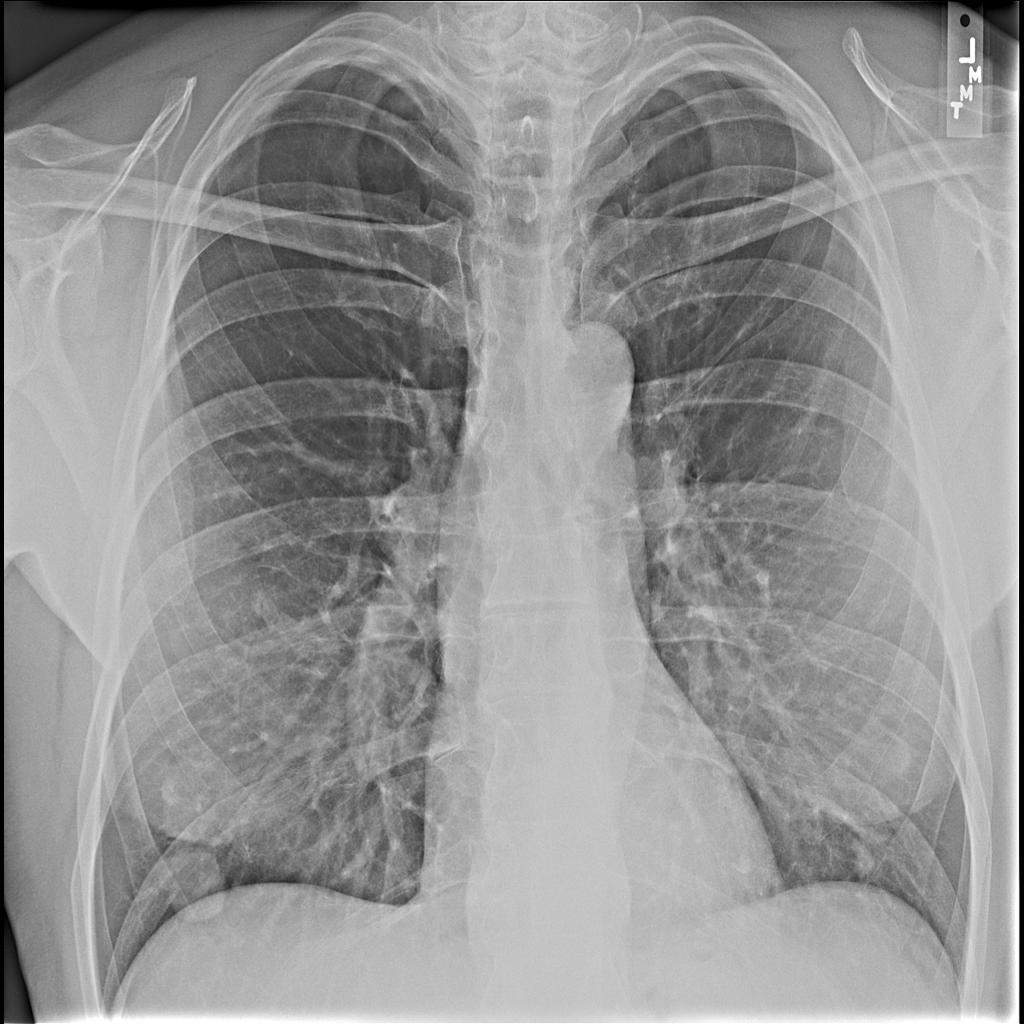Nodule: (146, 834, 222, 927), (863, 712, 924, 791), (160, 767, 217, 808)
